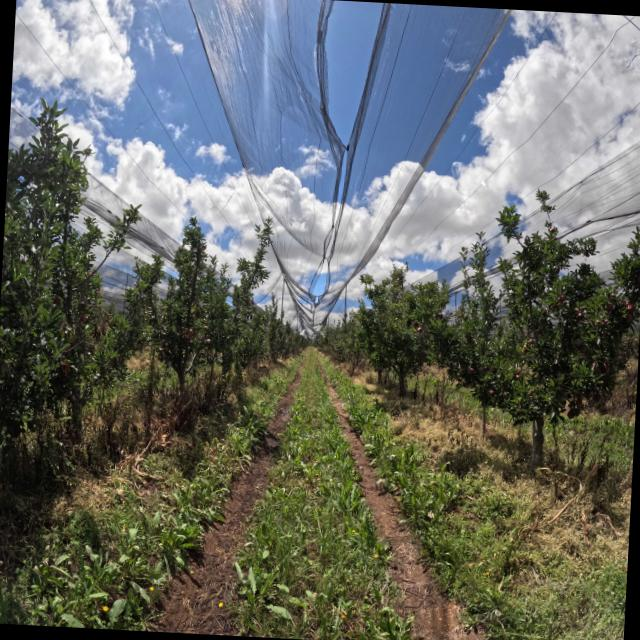-FireBlight-: (94, 308, 111, 344)
